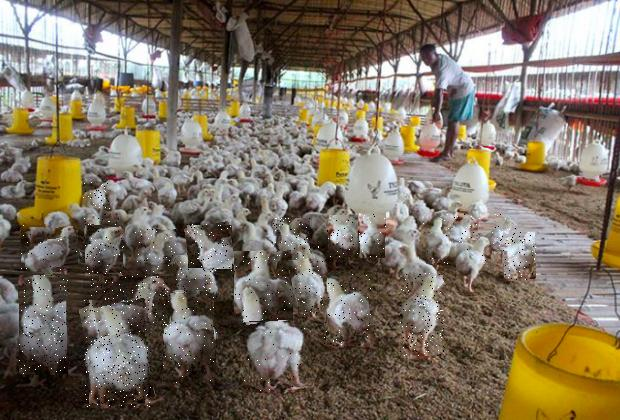chicken: (84, 300, 151, 408), (244, 287, 308, 392), (163, 292, 218, 385), (19, 276, 68, 377), (91, 277, 170, 335), (235, 252, 293, 323), (400, 274, 444, 358), (325, 273, 373, 347), (287, 245, 327, 314), (21, 226, 82, 271), (186, 223, 233, 271), (457, 235, 494, 295), (86, 227, 125, 276), (135, 230, 176, 276), (174, 256, 216, 295), (274, 219, 312, 262), (420, 216, 453, 265), (503, 233, 536, 281), (327, 216, 360, 260), (360, 213, 388, 258), (84, 214, 120, 244), (446, 212, 480, 243), (492, 214, 517, 251), (45, 210, 74, 239), (82, 182, 110, 209)
